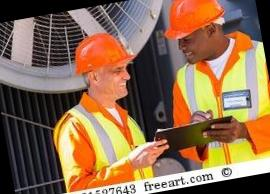Vest: (172, 41, 270, 169), (44, 90, 164, 192)
